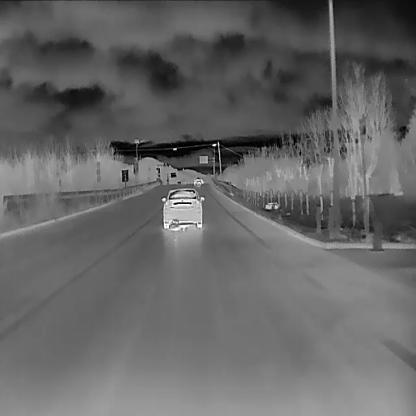car: (161, 186, 205, 228), (192, 176, 201, 186)
